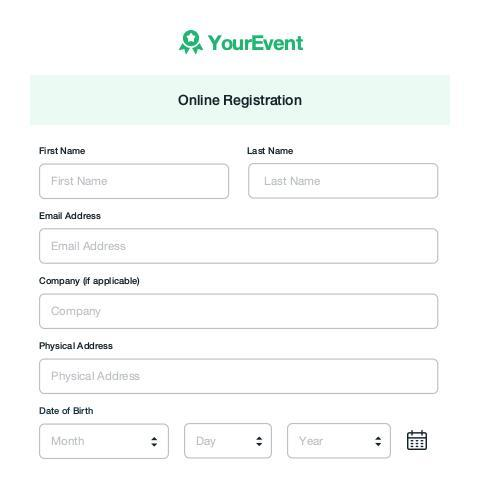dropdown: (39, 424, 169, 460), (288, 426, 390, 459), (186, 424, 272, 458)
icon: (402, 428, 434, 455)
input: (40, 230, 438, 265), (41, 360, 438, 395), (42, 295, 438, 329), (249, 165, 439, 201), (41, 165, 231, 199)
label: (176, 89, 306, 110), (36, 336, 117, 358), (39, 275, 146, 290), (38, 207, 103, 224), (36, 404, 101, 418), (38, 145, 90, 159), (241, 146, 300, 158)
